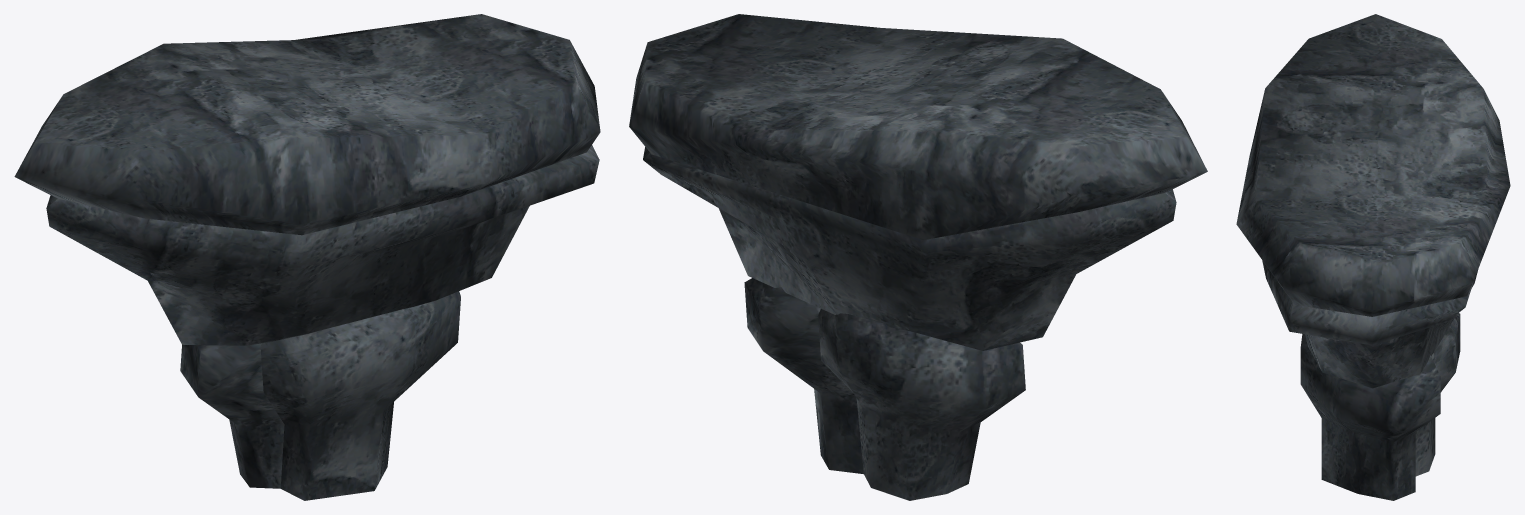
File: environment_stone_shanti_004_d.FBX
3 views of the same model, side by side, from view 1: azimuth 30°, elevation 25°; view 2: azimuth 150°, elevation 25°; view 3: azimuth 270°, elevation 25° (orthographic). The views are drawn at different scales.
Parts seen in each view (by area): view 1: environment_stone_shanti_004_d; view 2: environment_stone_shanti_004_d; view 3: environment_stone_shanti_004_d.
Boxes of the visible parts, <box> form: environment_stone_shanti_004_d: <box>14,14,600,500</box>; environment_stone_shanti_004_d: <box>629,14,1207,500</box>; environment_stone_shanti_004_d: <box>1236,14,1510,500</box>.
Bounding box in the file's own units: 499 × 334 × 242.
1 material, 1 textured.
